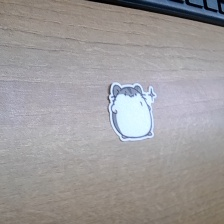mouse: (108, 81, 159, 145)
